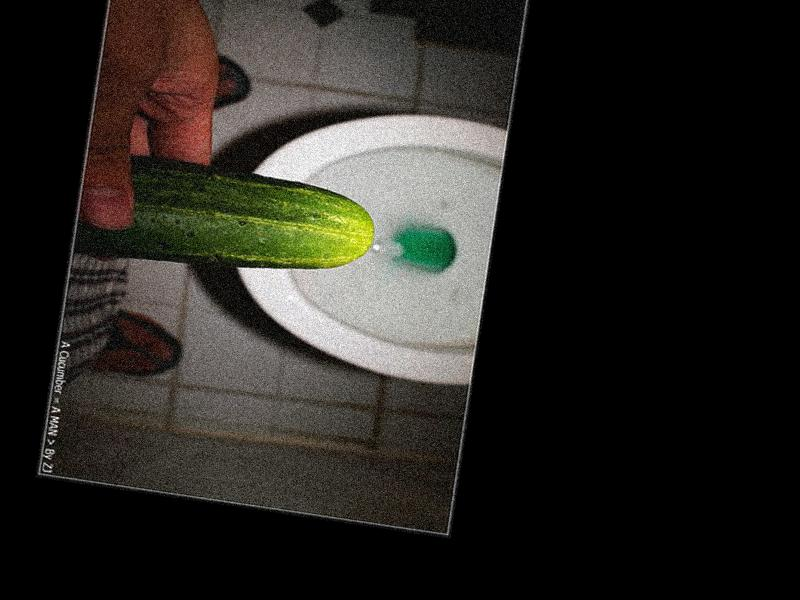Cucumber: (68, 148, 379, 295)
